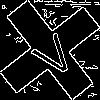V: (25, 25, 79, 81)
